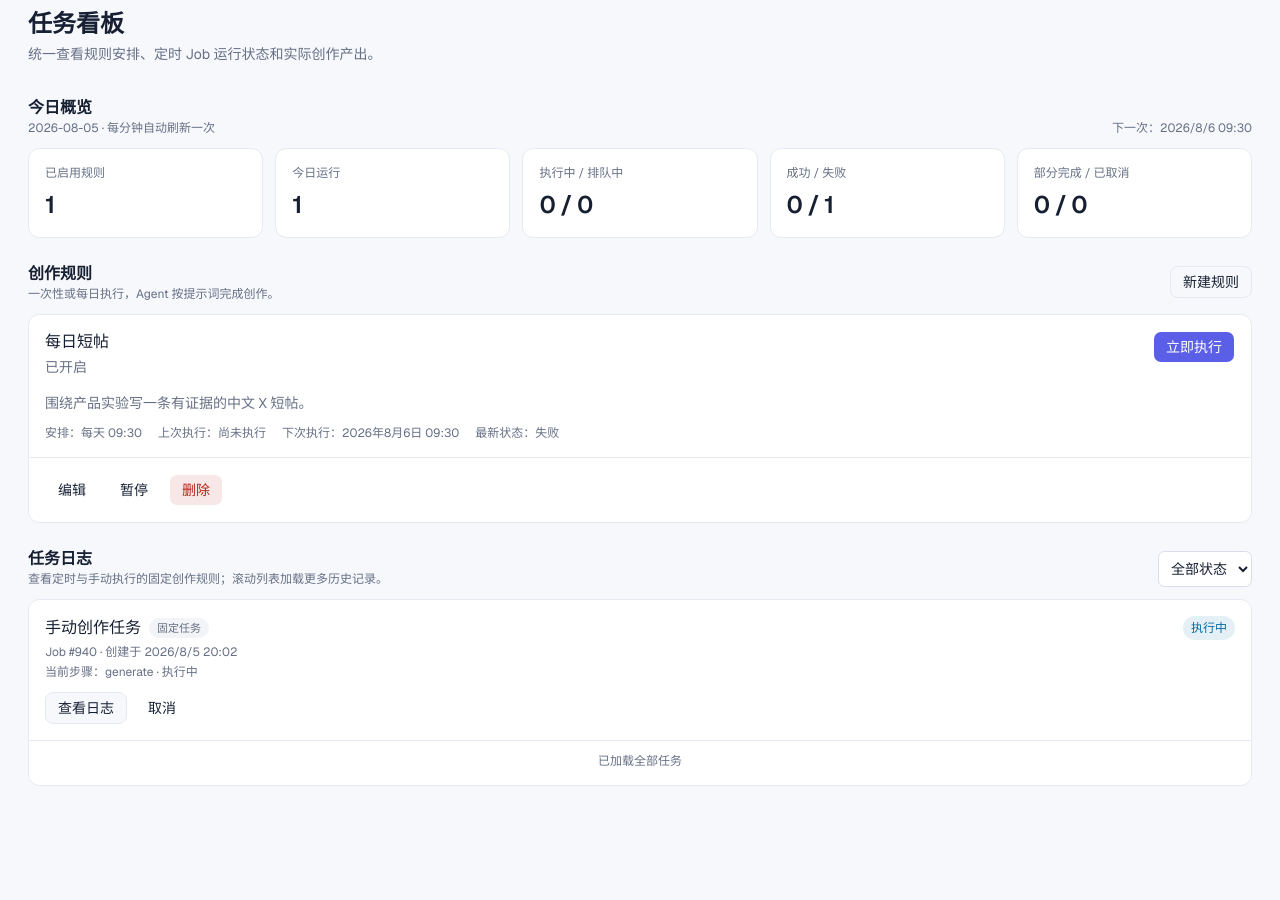
Test: CreationRulesClient › shows the task board dashboard and execution logs
expect the heading "任务看板" is shown: met, box left=28, top=8, right=124, bottom=39
expect the text "今日运行" is shown: met, box left=292, top=165, right=340, bottom=181
Click the button "查看日志": (86, 708) left=45, top=692, right=127, bottom=724
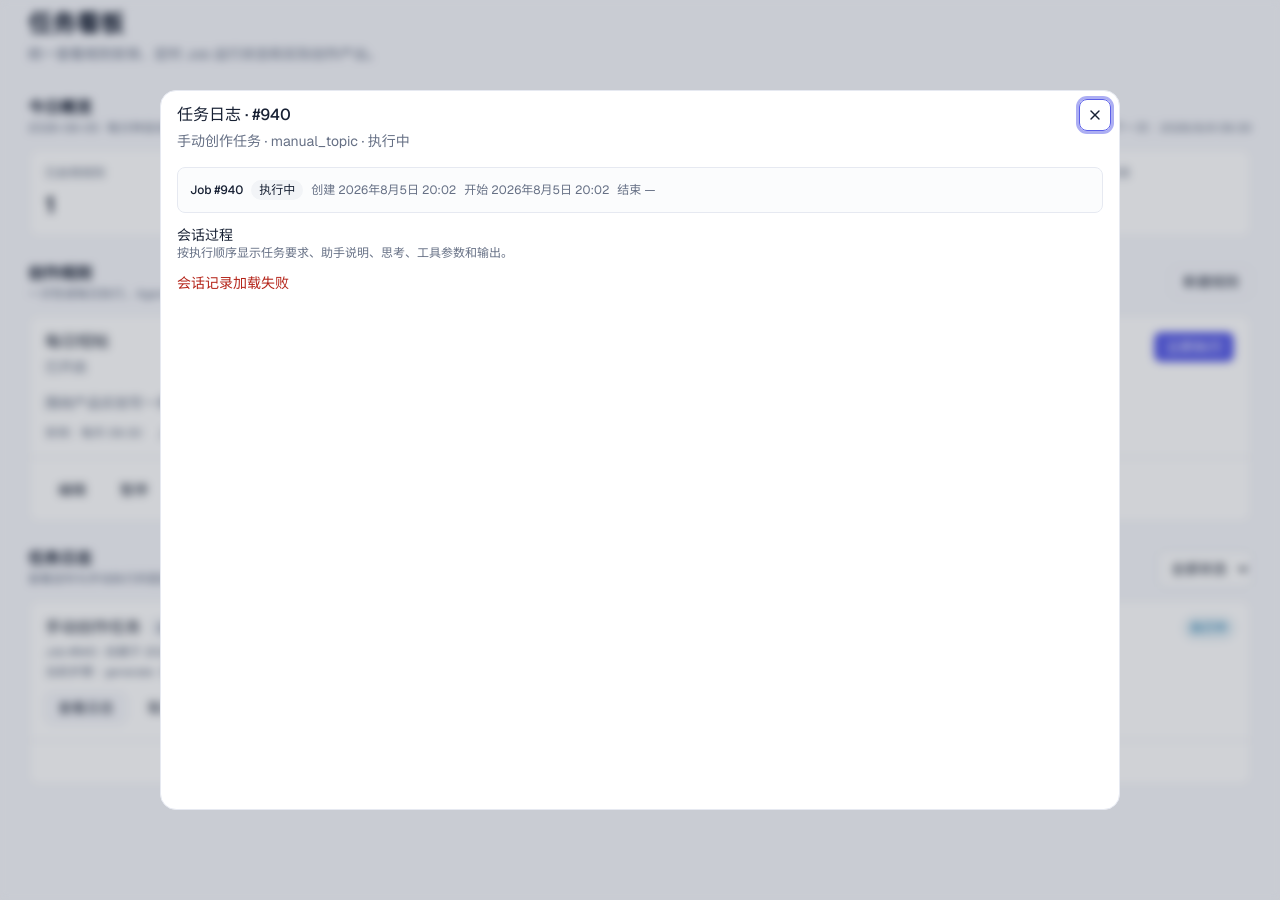
expect the dialog shows "手动创作任务": met, box left=177, top=132, right=261, bottom=150
